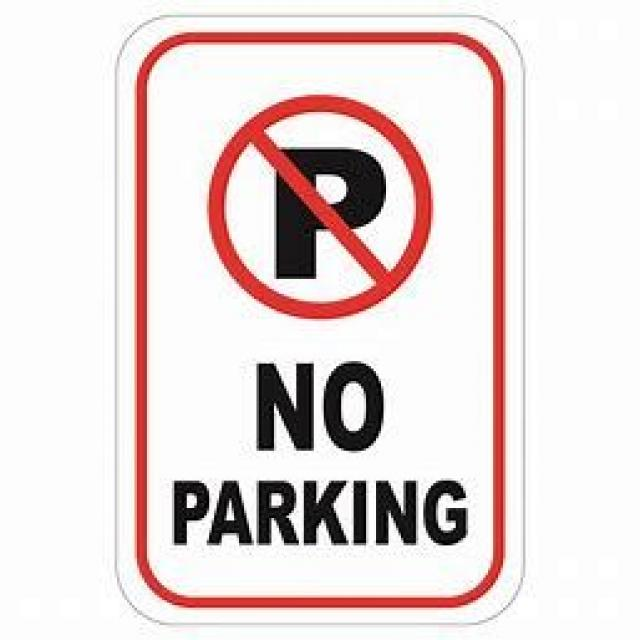NO_PARKING: (207, 94, 431, 318)
